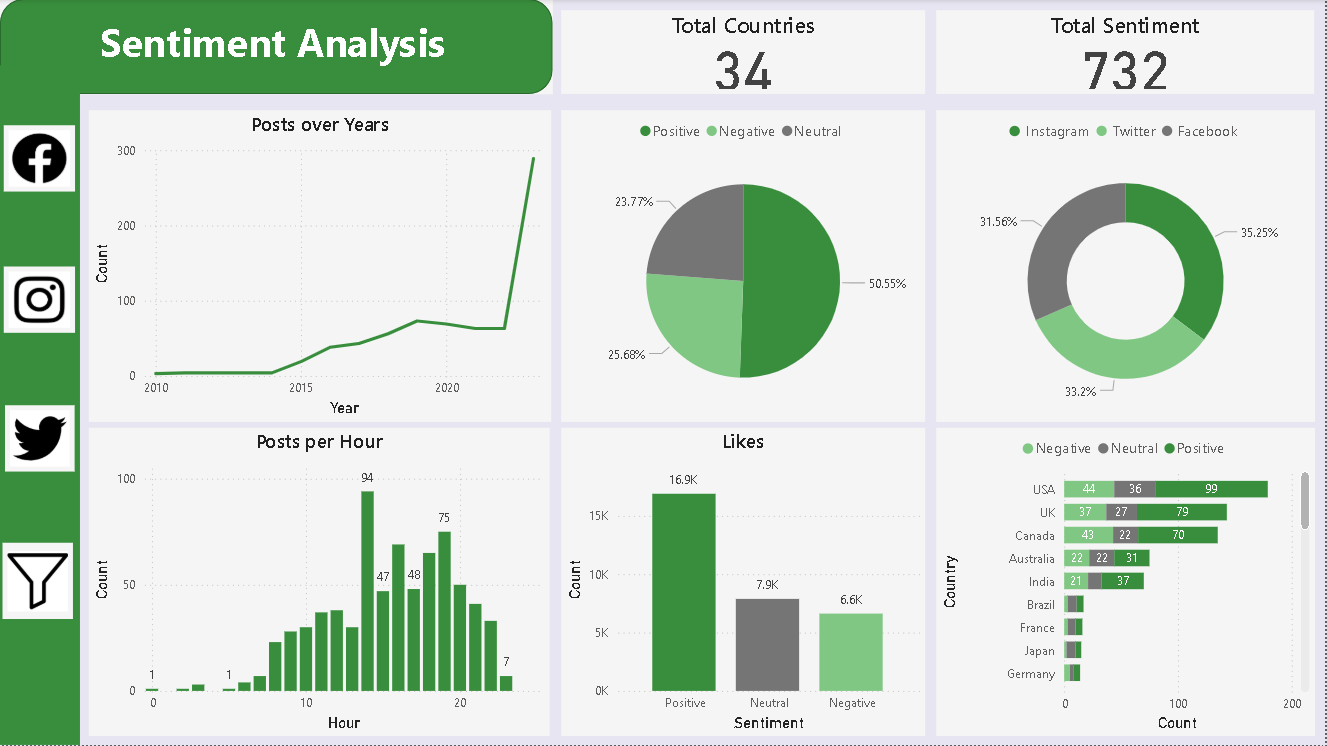

The dashboard page shown, as its layout file describes it:
{"tool":"powerbi","page":{"name":"Page 3","canvas":[1280,720],"ordinal":0},"visuals":[{"type":"shape","box":[0,0,533.2,91.7],"z":0},{"type":"donutChart","fields":{"Category":["sentimentdataset.Platform"],"Y":["CountNonNull(sentimentdataset.Column1)"]},"box":[903.6,107.4,365.6,300.4],"z":1000},{"type":"pieChart","fields":{"Category":["sentimentdataset.UnifiedSentiment"],"Y":["CountNonNull(sentimentdataset.Column1)"]},"box":[541.7,107.4,351.1,300.4],"z":2000},{"type":"columnChart","title":"Posts per Hour","fields":{"Category":["sentimentdataset.Hour"],"Y":["CountNonNull(sentimentdataset.Column1)"]},"box":[85.7,413.8,445.2,298],"z":3000},{"type":"columnChart","title":"Likes ","fields":{"Y":["Sum(sentimentdataset.Likes)"],"Category":["sentimentdataset.UnifiedSentiment"]},"box":[541.7,413.8,351.1,298],"z":4000},{"type":"lineChart","title":"Posts over Years","fields":{"Y":["CountNonNull(sentimentdataset.Column1)"],"Category":["sentimentdataset.Column.Variation.Date Hierarchy.Year"]},"box":[85.7,107.4,446.4,300.4],"z":5000},{"type":"barChart","fields":{"Category":["sentimentdataset.Country"],"Y":["CountNonNull(sentimentdataset.Column1)"],"Series":["sentimentdataset.UnifiedSentiment"]},"box":[903.6,413.8,365.6,298],"z":6000},{"type":"card","title":"Total Countries","fields":{"Values":["Count(sentimentdataset.Country)"]},"box":[541.2,11.2,351.3,80.7],"z":7000},{"type":"card","title":"Total Sentiment ","fields":{"Values":["CountNonNull(sentimentdataset.Sentiment)"]},"box":[903.7,11.2,364.9,80.7],"z":8000},{"type":"textbox","box":[91.7,10.9,357.1,67.6],"z":9000},{"type":"shape","box":[0,63.9,77.2,656.3],"z":10000},{"type":"image","box":[3.6,122,68.8,63.9],"z":11000},{"type":"image","box":[3.6,258.2,68.8,63.9],"z":12000},{"type":"image","box":[4.8,392,67.6,63.9],"z":13000},{"type":"image","box":[2.9,524.9,68,73.7],"z":14000}]}

Visuals, with their boxes in screenshot pixels (x1, y1, x2, y2), scaled from the page's 1280x720 canvas onto the 1327x746 screenshot:
shape: rect(0, 0, 553, 95)
donutChart - sentimentdataset.Platform x CountNonNull(sentimentdataset.Column1): rect(937, 111, 1316, 423)
pieChart - sentimentdataset.UnifiedSentiment x CountNonNull(sentimentdataset.Column1): rect(562, 111, 926, 423)
"Posts per Hour" columnChart: rect(89, 429, 550, 738)
"Likes " columnChart: rect(562, 429, 926, 738)
"Posts over Years" lineChart: rect(89, 111, 552, 423)
barChart - sentimentdataset.Country x CountNonNull(sentimentdataset.Column1): rect(937, 429, 1316, 738)
"Total Countries" card: rect(561, 12, 925, 95)
"Total Sentiment " card: rect(937, 12, 1315, 95)
textbox: rect(95, 11, 465, 81)
shape: rect(0, 66, 80, 745)
image: rect(4, 126, 75, 193)
image: rect(4, 268, 75, 334)
image: rect(5, 406, 75, 472)
image: rect(3, 544, 74, 620)
